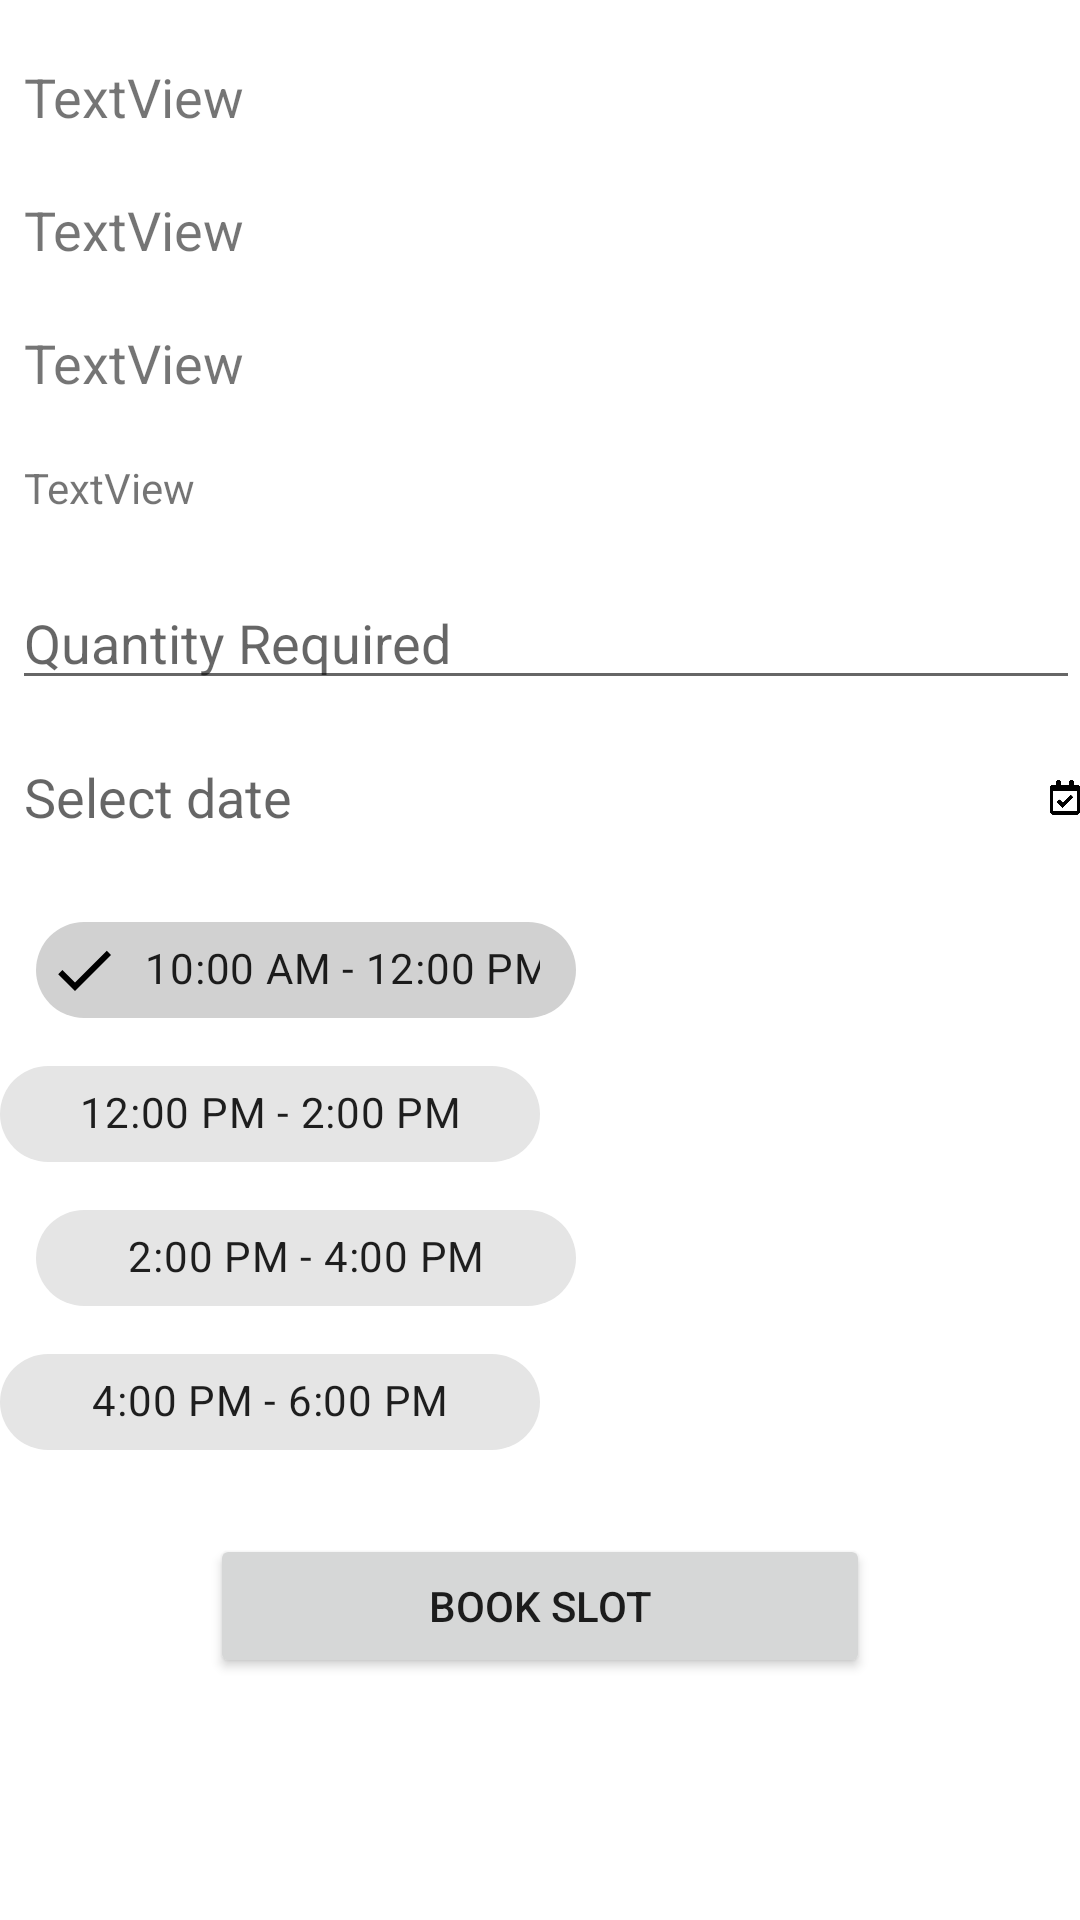

Screen size 1080w x 1920h. Icon name, then its box in pixels as (x1, y1, x2, y2):
calender: (1050, 780, 1080, 815)
